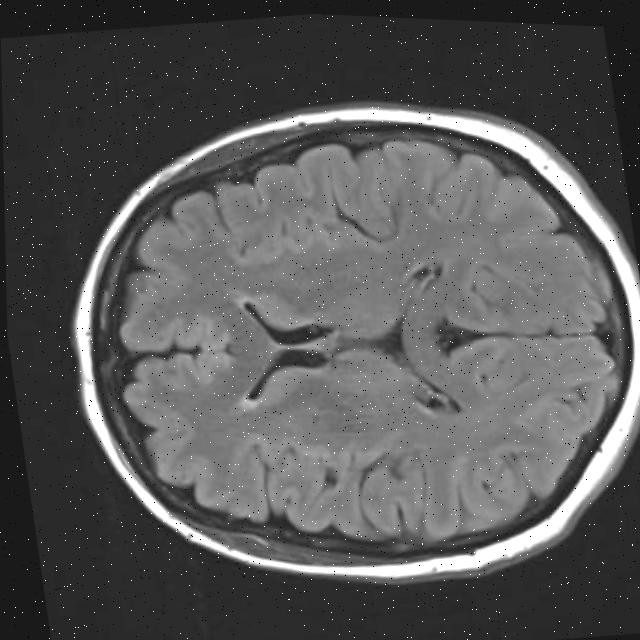NoTumor: (34, 48, 640, 634)
